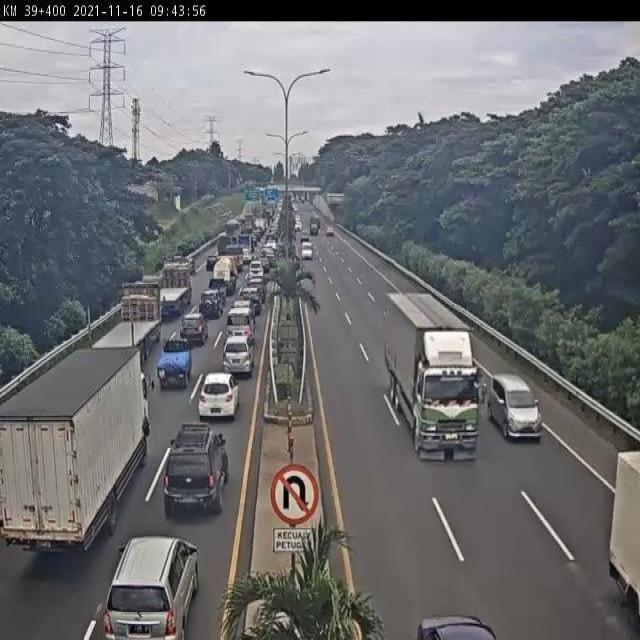Car: (102, 535, 198, 638), (162, 424, 228, 515), (487, 371, 543, 441), (198, 373, 242, 422), (416, 614, 499, 639), (156, 338, 192, 388), (222, 334, 255, 378), (179, 311, 210, 346), (225, 304, 254, 336), (199, 288, 227, 318), (240, 286, 262, 314), (248, 260, 264, 280), (301, 241, 313, 260), (260, 254, 272, 272), (206, 255, 218, 272), (326, 225, 334, 236)
Truck: (0, 346, 148, 546), (384, 288, 479, 458), (608, 451, 640, 623), (93, 282, 161, 349), (154, 256, 192, 314), (212, 253, 237, 291), (311, 216, 320, 238)
